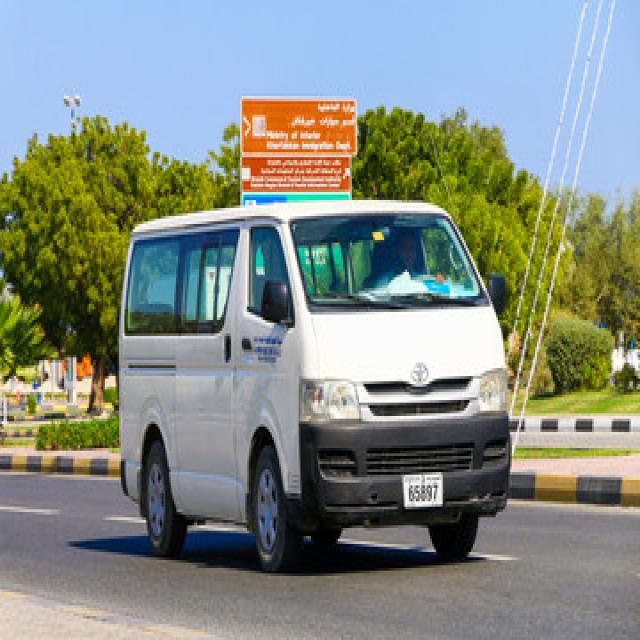van: (14, 101, 507, 571)
